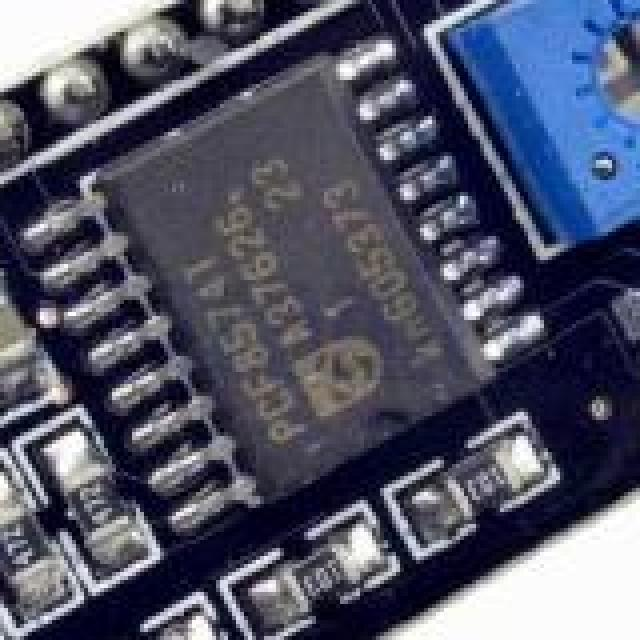IC: (96, 48, 502, 440)
capacitor: (0, 272, 48, 384)
potentiometer: (480, 0, 640, 196)
resistor: (264, 524, 368, 640), (56, 440, 148, 568), (436, 428, 538, 530), (0, 488, 64, 592), (100, 620, 208, 640)
